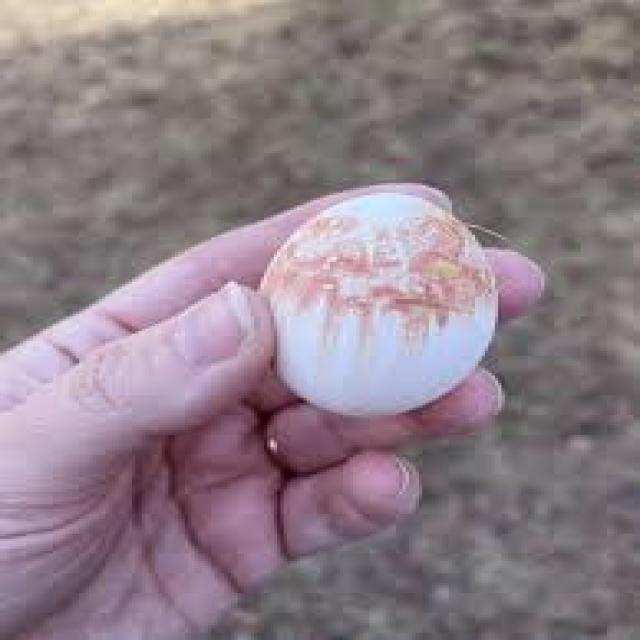Blood Stained Egg: (270, 185, 507, 407)
